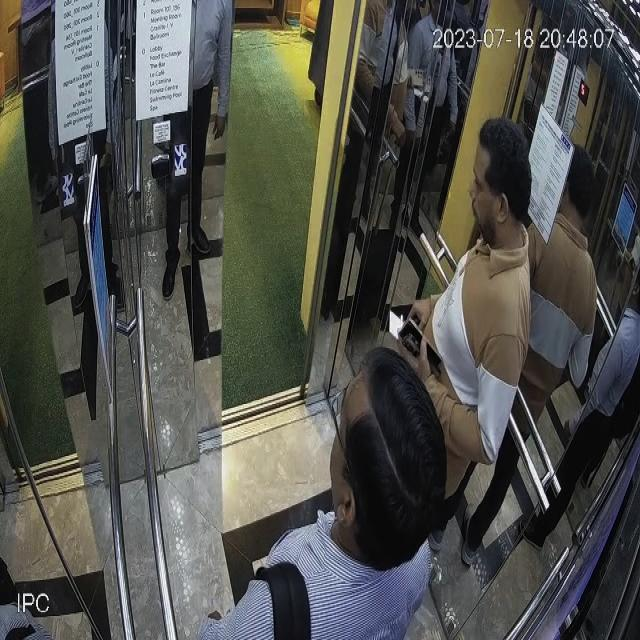gun: (210, 346, 458, 640), (386, 110, 541, 450), (150, 0, 223, 394), (538, 153, 598, 410)
